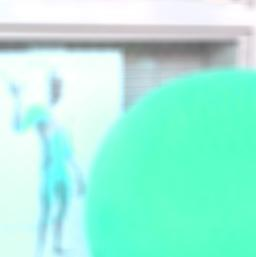algae: (85, 67, 256, 257)
